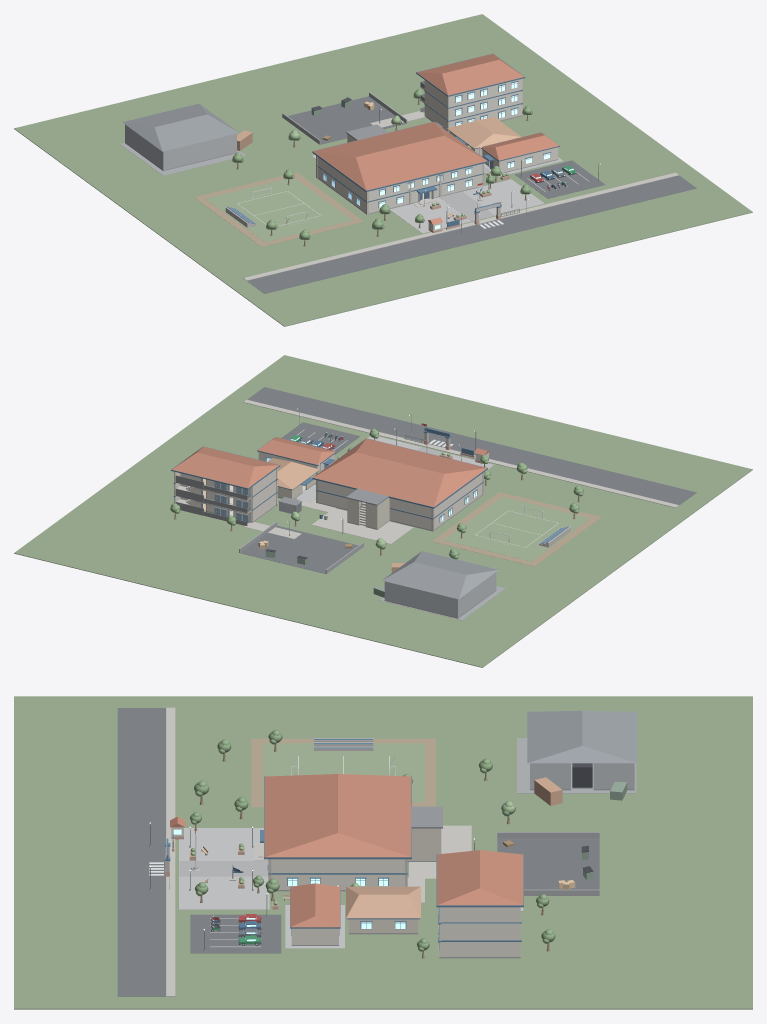
The model's file is csl_campus_world.glb.
3 renders of one model, top to bottom at view 1: azimuth 30°, elevation 25°; view 2: azimuth 150°, elevation 25°; view 3: azimuth 270°, elevation 25°, orthographic. The views are drawn at different scales.
Visible parts, largest first — view 1: node_grass, node_asphalt, node_roof_terracotta, node_plaster_ext, node_grass_field, node_roof_dark, node_concrete, node_trim_blue, node_pavers, node_corrugated_steel, node_dirt, node_corrugated_rust (+4 smaller); view 2: node_grass, node_asphalt, node_roof_terracotta, node_grass_field, node_concrete, node_plaster_ext, node_roof_dark, node_corrugated_steel, node_trim_blue, node_dirt, node_metal_grey, node_concrete_dark (+5 smaller); view 3: node_grass, node_asphalt, node_roof_terracotta, node_plaster_ext, node_roof_dark, node_pavers, node_concrete, node_grass_field, node_corrugated_rust, node_trim_blue, node_concrete_dark, node_dirt (+7 smaller).
Part boxes in pixels (bbox=[...]): node_grass: bbox=[14, 14, 752, 326]; node_asphalt: bbox=[247, 96, 696, 293]; node_roof_terracotta: bbox=[313, 54, 559, 224]; node_plaster_ext: bbox=[317, 79, 558, 231]; node_grass_field: bbox=[206, 177, 352, 241]; node_roof_dark: bbox=[122, 103, 442, 151]; node_concrete: bbox=[225, 86, 678, 280]; node_trim_blue: bbox=[227, 53, 559, 227]; node_pavers: bbox=[390, 157, 562, 233]; node_corrugated_steel: bbox=[125, 124, 236, 170]; node_dirt: bbox=[194, 172, 508, 246]; node_corrugated_rust: bbox=[237, 117, 521, 150]; node_grass: bbox=[14, 355, 752, 667]; node_asphalt: bbox=[240, 387, 696, 573]; node_roof_terracotta: bbox=[172, 437, 489, 507]; node_grass_field: bbox=[443, 497, 590, 561]; node_concrete: bbox=[176, 400, 679, 547]; node_plaster_ext: bbox=[174, 452, 488, 529]; node_roof_dark: bbox=[278, 488, 498, 599]; node_corrugated_steel: bbox=[279, 502, 496, 617]; node_trim_blue: bbox=[171, 427, 568, 543]; node_dirt: bbox=[337, 454, 601, 566]; node_metal_grey: bbox=[175, 408, 476, 534]; node_concrete_dark: bbox=[206, 425, 505, 620]; node_grass: bbox=[14, 696, 752, 1009]; node_asphalt: bbox=[117, 708, 599, 996]; node_roof_terracotta: bbox=[170, 774, 523, 927]; node_plaster_ext: bbox=[171, 827, 520, 957]; node_roof_dark: bbox=[411, 710, 637, 828]; node_pavers: bbox=[179, 828, 344, 948]; node_concrete: bbox=[165, 707, 523, 996]; node_grass_field: bbox=[262, 743, 424, 802]; node_corrugated_rust: bbox=[346, 777, 562, 918]; node_trim_blue: bbox=[164, 738, 523, 950]; node_concrete_dark: bbox=[149, 738, 636, 958]; node_dirt: bbox=[190, 738, 435, 905].
Size of the model in its own units: 130 by 12.8 by 130.
